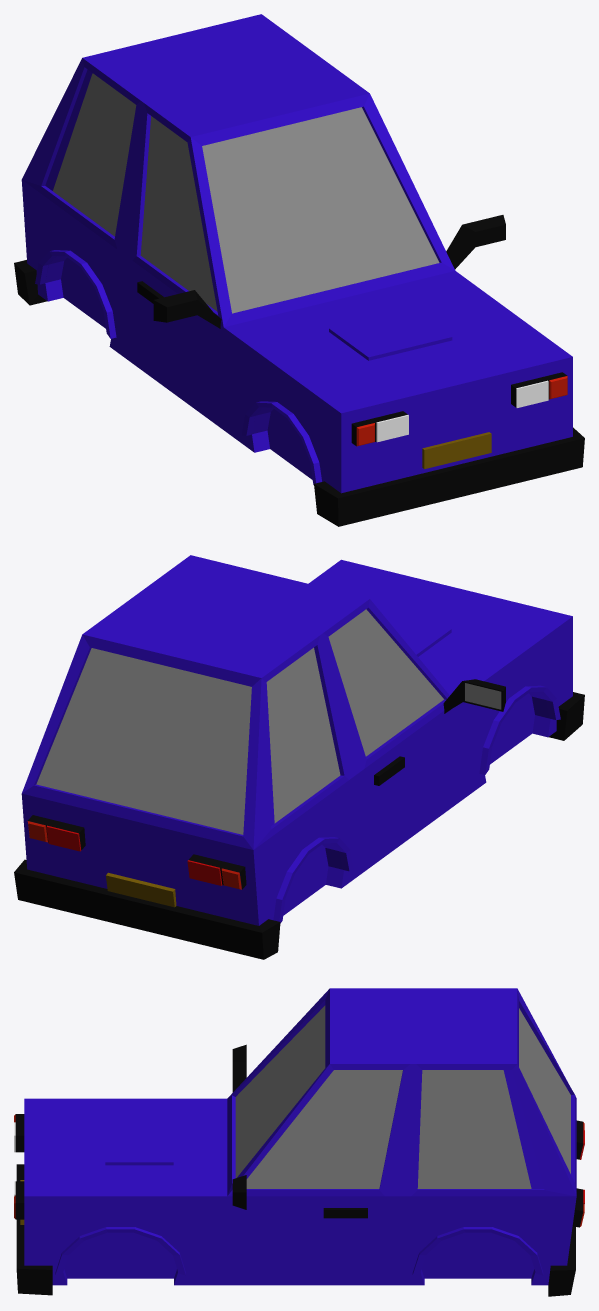
The model's file is Car.obj.
3 renders of one model, top to bottom at view 1: azimuth 30°, elevation 25°; view 2: azimuth 150°, elevation 25°; view 3: azimuth 270°, elevation 25°, orthographic. The views are drawn at different scales.
Parts seen in each view (by area): view 1: Car_Body, Back, Front; view 2: Car_Body, Front, Back; view 3: Car_Body, Back, Front.
Part boxes in pixels (bbox=[...]): Car_Body: bbox=[14, 14, 584, 526]; Back: bbox=[35, 250, 116, 338]; Front: bbox=[241, 401, 321, 484]; Car_Body: bbox=[14, 555, 584, 959]; Front: bbox=[479, 685, 560, 774]; Back: bbox=[273, 837, 354, 923]; Car_Body: bbox=[14, 988, 584, 1296]; Back: bbox=[412, 1227, 543, 1275]; Front: bbox=[55, 1227, 185, 1275].
Size of the model in its own units: 6.04 by 4.16 by 9.87.
